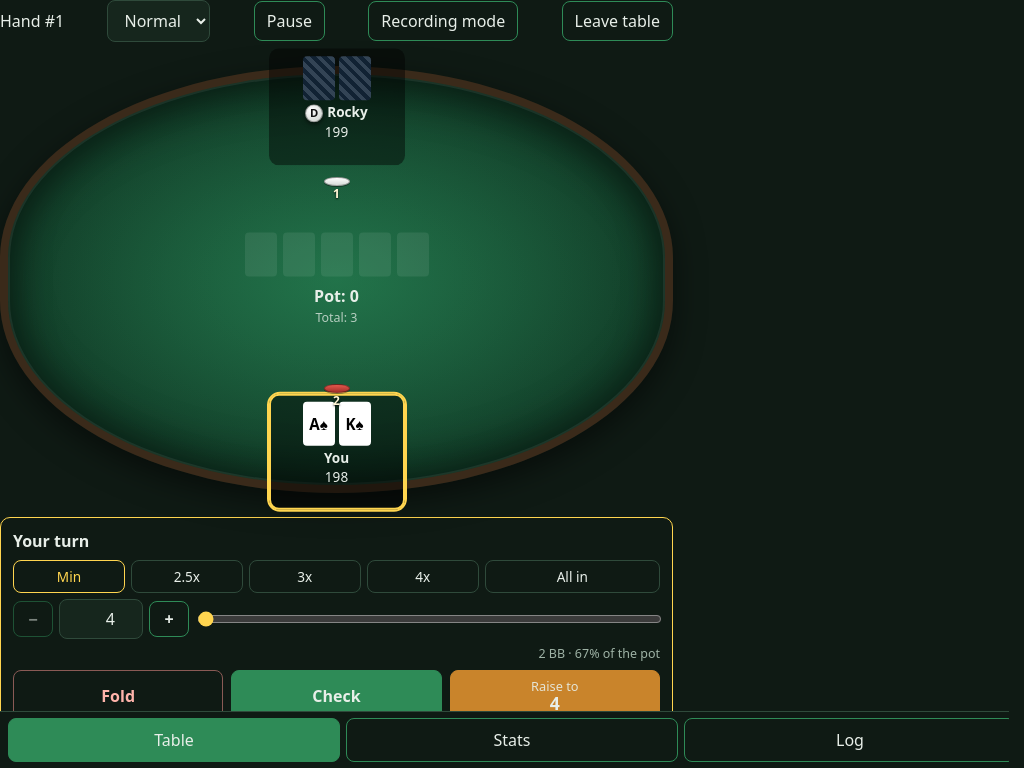
TableView › keeps the feed off a phone until the table is being recorded
Step 1. Click the button "Recording mode" → (443, 21), box [368,1,518,41]
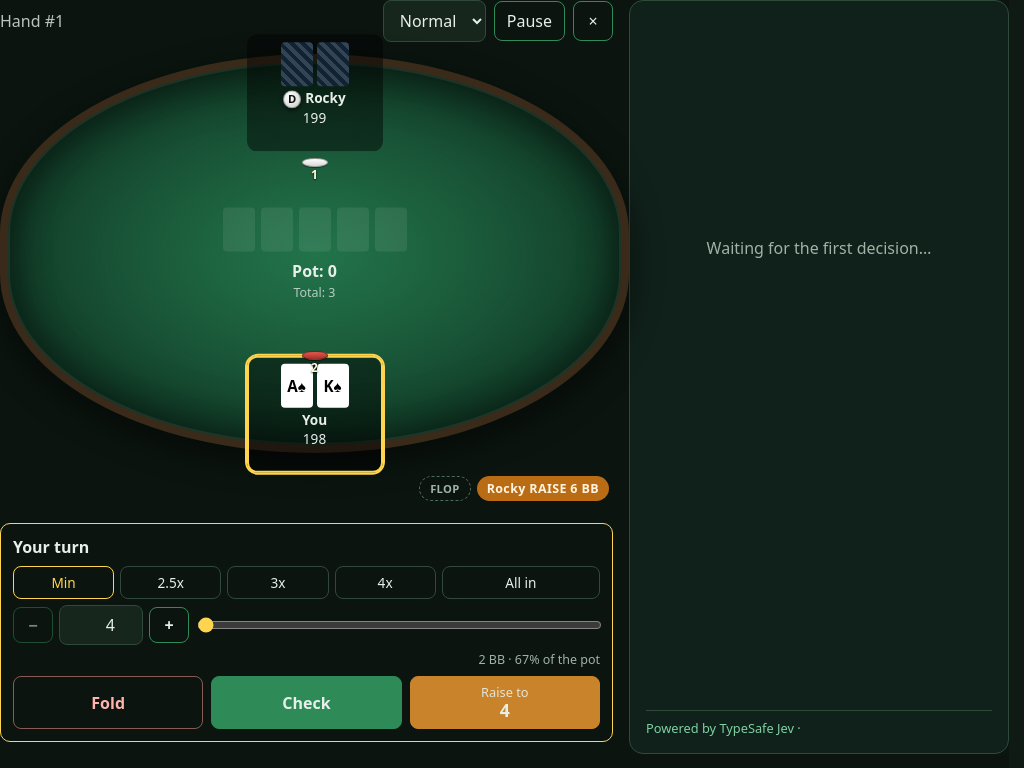
Expected: the element with class "action-feed" is shown, [419,476,609,501]
